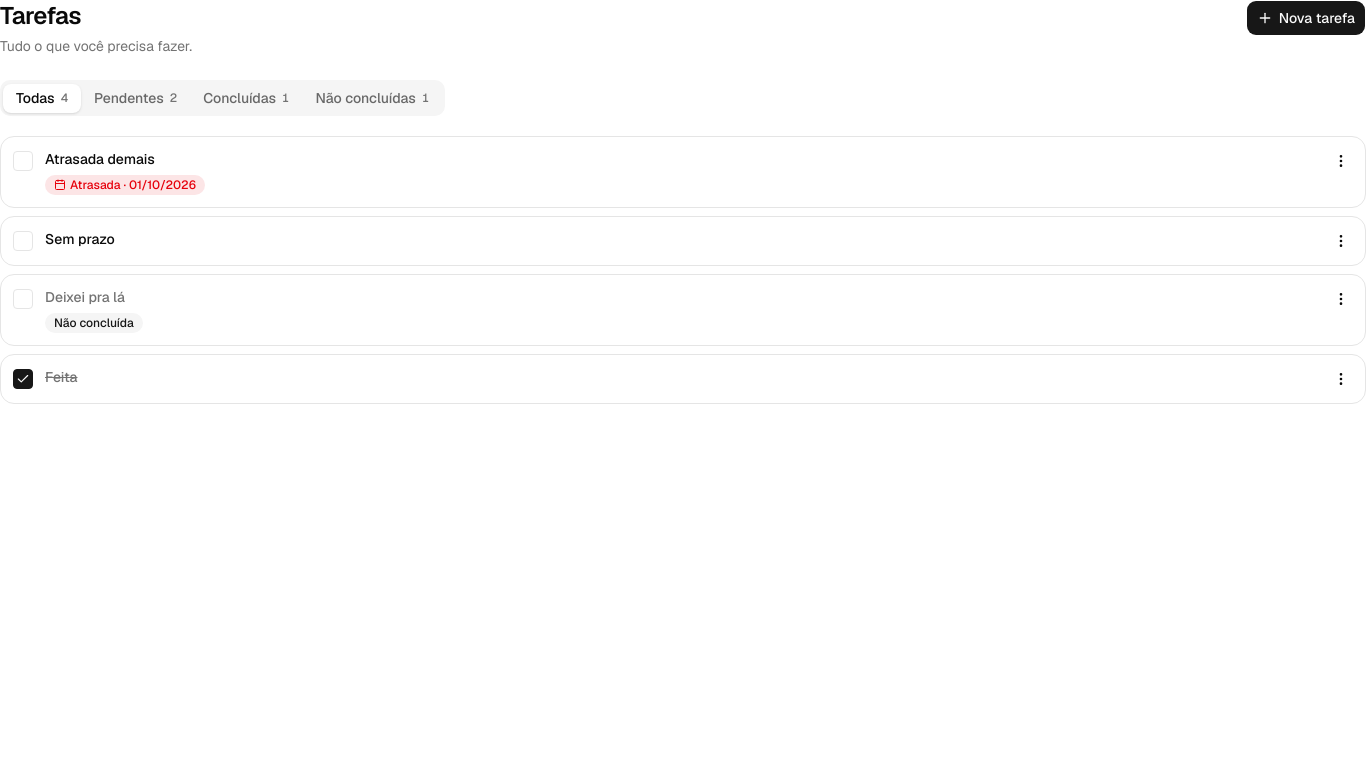
Test: TasksView delete › keeps the task when the confirmation is cancelled
What coordinates should you click on to do the following:
click the button named "Ações da tarefa Sem prazo"
I would click on:
 (1341, 241)
Its box is [1325, 225, 1357, 257].
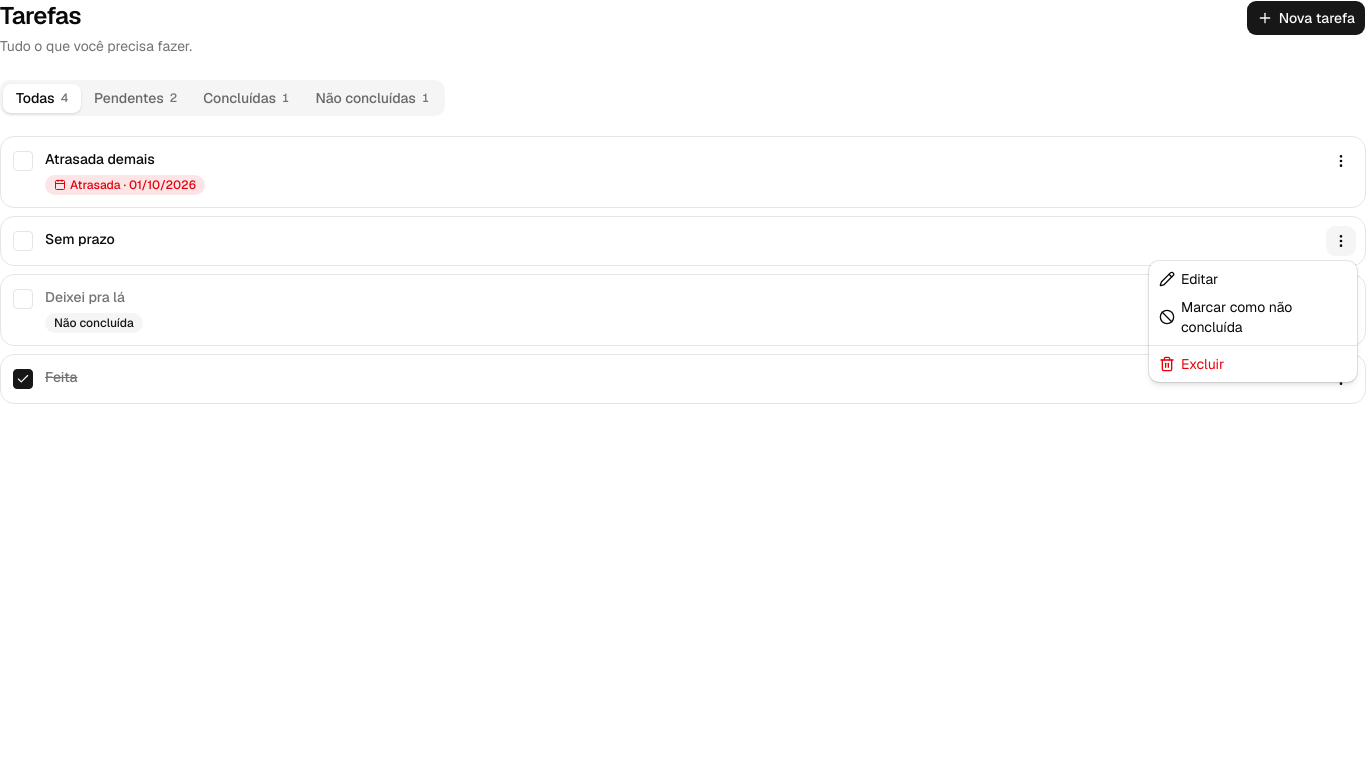
What coordinates should you click on to do the following:
click the menu item "Excluir"
I would click on:
 (1192, 364)
Its box is [1159, 355, 1224, 373].
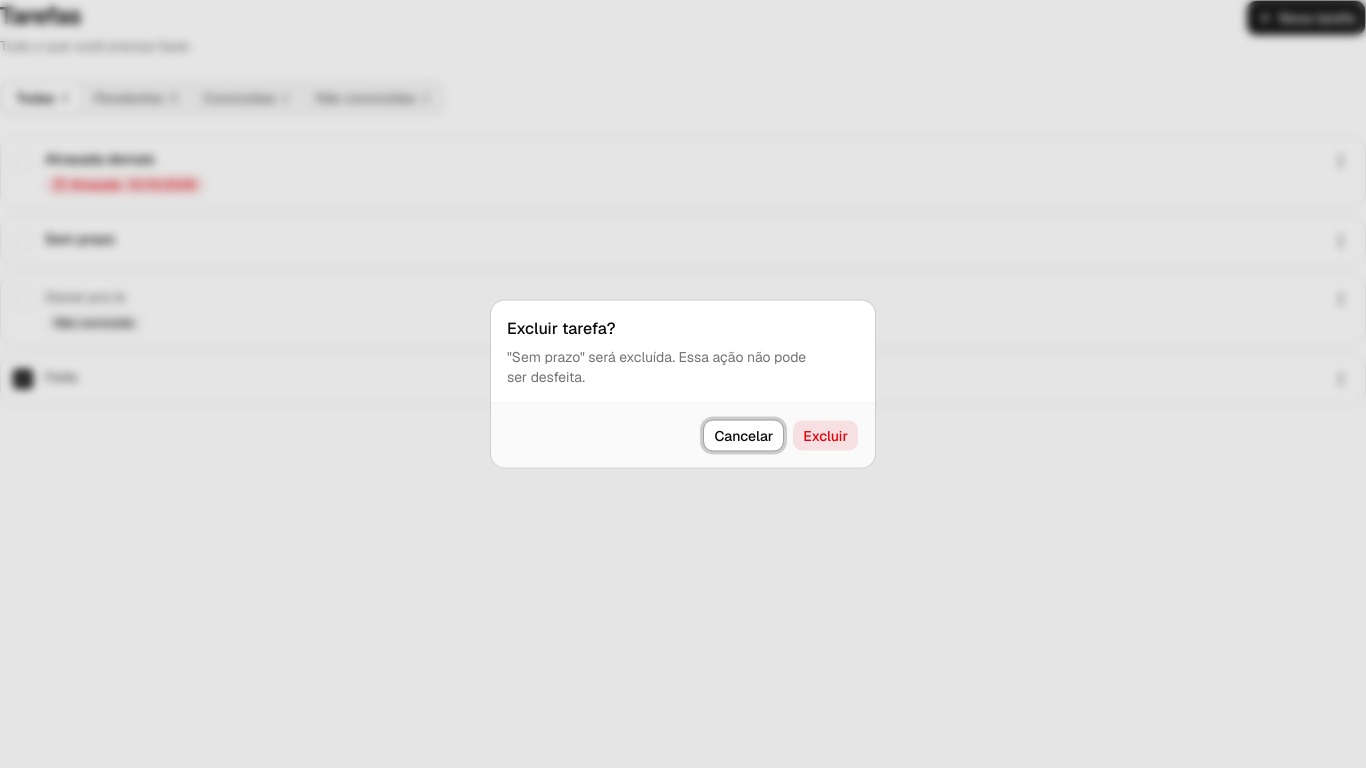
What coordinates should you click on to do the following:
click the button "Cancelar"
I would click on:
 (744, 436)
Its box is [703, 420, 784, 452].
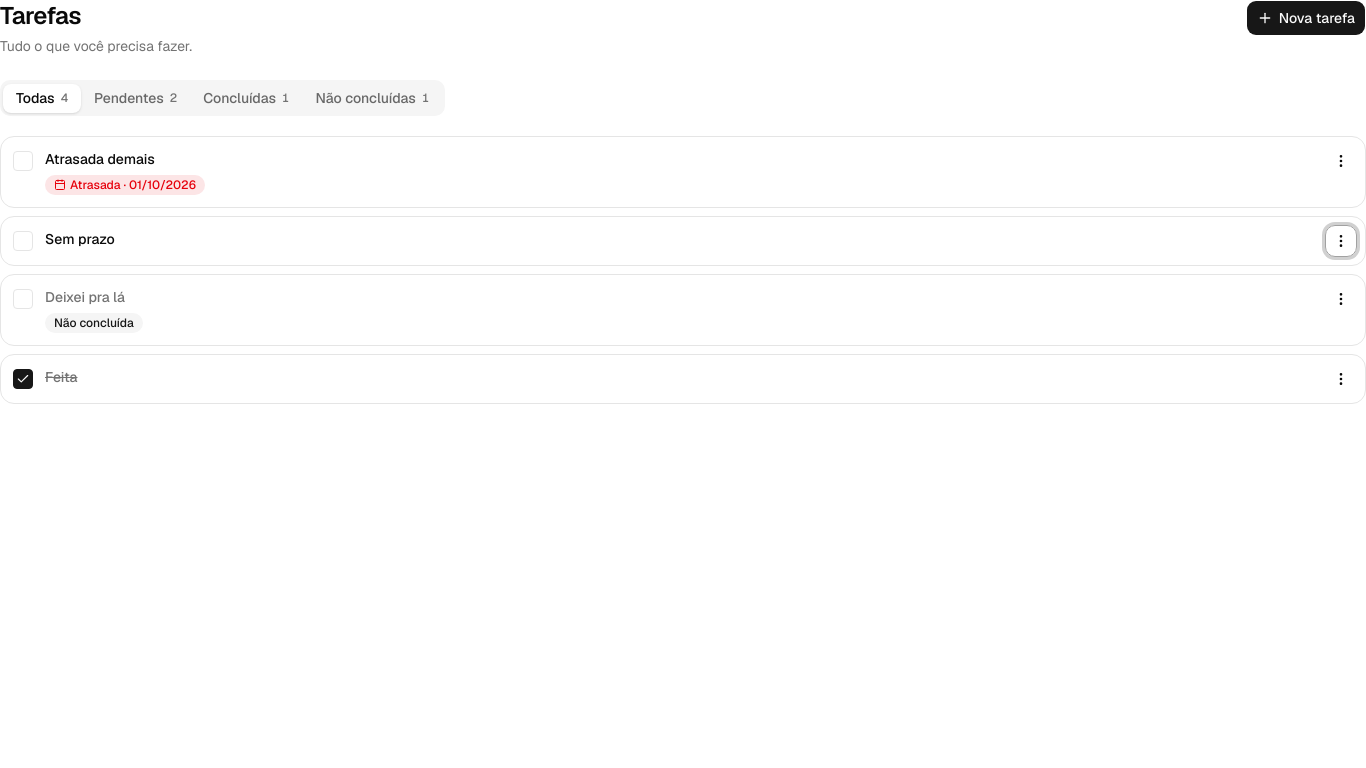
Check: the text "será excluída" is gone
